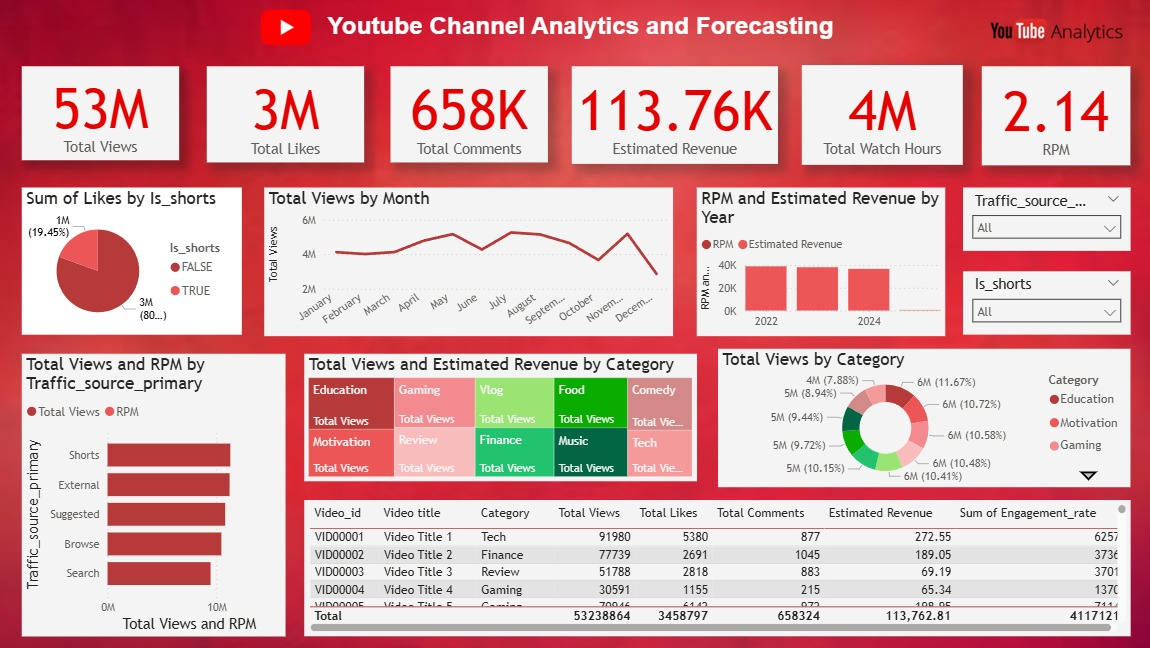

What the dashboard file says about the page in this screenshot:
{"tool":"powerbi","page":{"name":"Page 1","canvas":[1280,720],"ordinal":0},"visuals":[{"type":"textbox","box":[315.6,13.7,647.7,42.5],"z":0},{"type":"image","box":[1063.5,0,197.6,78.2],"z":1000},{"type":"card","fields":{"Values":["youtube_videos_1000.Total Views"]},"box":[26.1,78.2,172.9,102.9],"z":2000},{"type":"card","fields":{"Values":["youtube_videos_1000.Estimated Revenue"]},"box":[629.8,78.2,226.4,107],"z":3000},{"type":"card","fields":{"Values":["youtube_videos_1000.Total Watch Hours"]},"box":[882.3,76.8,177,109.8],"z":4000},{"type":"card","fields":{"Values":["youtube_videos_1000.RPM"]},"box":[1079.9,78.2,163.3,108.4],"z":5000},{"type":"card","fields":{"Values":["youtube_videos_1000.Total Comments"]},"box":[430.9,78.2,172.9,105.7],"z":6000},{"type":"card","fields":{"Values":["youtube_videos_1000.Total Likes"]},"box":[229.2,78.2,172.9,105.7],"z":7000},{"type":"lineChart","fields":{"Category":["youtube_videos_1000.Upload_date.Variation.Date Hierarchy.Month"],"Y":["youtube_videos_1000.Total Views"]},"box":[292.3,211.3,448.7,163.3],"z":8000},{"type":"lineStackedColumnComboChart","fields":{"Category":["youtube_videos_1000.Upload_date.Variation.Date Hierarchy.Year","youtube_videos_1000.Upload_date.Variation.Date Hierarchy.Quarter","youtube_videos_1000.Upload_date.Variation.Date Hierarchy.Month","youtube_videos_1000.Upload_date.Variation.Date Hierarchy.Day"],"Y":["youtube_videos_1000.RPM","youtube_videos_1000.Estimated Revenue"]},"box":[767.1,211.3,273.1,163.3],"z":9000},{"type":"barChart","fields":{"Category":["youtube_videos_1000.Traffic_source_primary"],"Y":["youtube_videos_1000.Total Views","youtube_videos_1000.RPM"]},"box":[26.1,393.8,289.5,310.1],"z":10000},{"type":"treemap","fields":{"Group":["youtube_videos_1000.Category"],"Values":["youtube_videos_1000.Total Views","youtube_videos_1000.Estimated Revenue"]},"box":[336.2,393.8,430.9,140],"z":11000},{"type":"donutChart","fields":{"Category":["youtube_videos_1000.Category"],"Y":["youtube_videos_1000.Total Views"]},"box":[790.4,388.3,452.8,152.3],"z":12000},{"type":"pieChart","fields":{"Category":["youtube_videos_1000.Is_shorts"],"Y":["Sum(youtube_videos_1000.Likes)"]},"box":[26.1,211.3,241.5,161.9],"z":13000},{"type":"slicer","fields":{"Values":["youtube_videos_1000.Traffic_source_primary"]},"box":[1059.4,211.3,183.9,70],"z":14000},{"type":"tableEx","fields":{"Values":["youtube_videos_1000.Video_id","youtube_videos_1000.Video title","youtube_videos_1000.Category","youtube_videos_1000.Total Views","youtube_videos_1000.Total Likes","youtube_videos_1000.Total Comments","youtube_videos_1000.Estimated Revenue","Sum(youtube_videos_1000.Engagement_rate)"]},"box":[336.2,554.4,907,149.6],"z":15000},{"type":"slicer","fields":{"Values":["youtube_videos_1000.Is_shorts"]},"box":[1059.4,303.3,183.9,70],"z":16000},{"type":"image","box":[281.3,4.1,68.6,67.2],"z":17000}]}

Visuals, with their boxes in screenshot pixels (x1, y1, x2, y2), scaled from the page's 1280x720 canvas onto the 1150x648 screenshot:
textbox: crop(284, 12, 865, 51)
image: crop(955, 0, 1133, 70)
card - youtube_videos_1000.Total Views: crop(23, 70, 179, 163)
card - youtube_videos_1000.Estimated Revenue: crop(566, 70, 769, 167)
card - youtube_videos_1000.Total Watch Hours: crop(793, 69, 952, 168)
card - youtube_videos_1000.RPM: crop(970, 70, 1117, 168)
card - youtube_videos_1000.Total Comments: crop(387, 70, 542, 166)
card - youtube_videos_1000.Total Likes: crop(206, 70, 361, 166)
lineChart - youtube_videos_1000.Upload_date.Variation.Date Hierarchy.Month x youtube_videos_1000.Total Views: crop(263, 190, 666, 337)
lineStackedColumnComboChart - youtube_videos_1000.Upload_date.Variation.Date Hierarchy.Year x youtube_videos_1000.Upload_date.Variation.Date Hierarchy.Quarter: crop(689, 190, 935, 337)
barChart - youtube_videos_1000.Traffic_source_primary x youtube_videos_1000.Total Views: crop(23, 354, 284, 634)
treemap - youtube_videos_1000.Category x youtube_videos_1000.Total Views: crop(302, 354, 689, 480)
donutChart - youtube_videos_1000.Category x youtube_videos_1000.Total Views: crop(710, 349, 1117, 487)
pieChart - youtube_videos_1000.Is_shorts x Sum(youtube_videos_1000.Likes): crop(23, 190, 240, 336)
slicer - youtube_videos_1000.Traffic_source_primary: crop(952, 190, 1117, 253)
tableEx - youtube_videos_1000.Video_id x youtube_videos_1000.Video title: crop(302, 499, 1117, 634)
slicer - youtube_videos_1000.Is_shorts: crop(952, 273, 1117, 336)
image: crop(253, 4, 314, 64)
